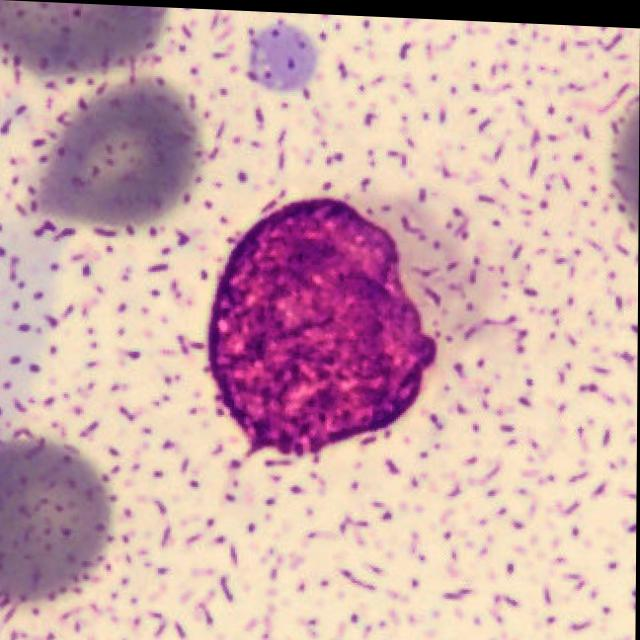Restos celulares: (207, 196, 439, 456)
